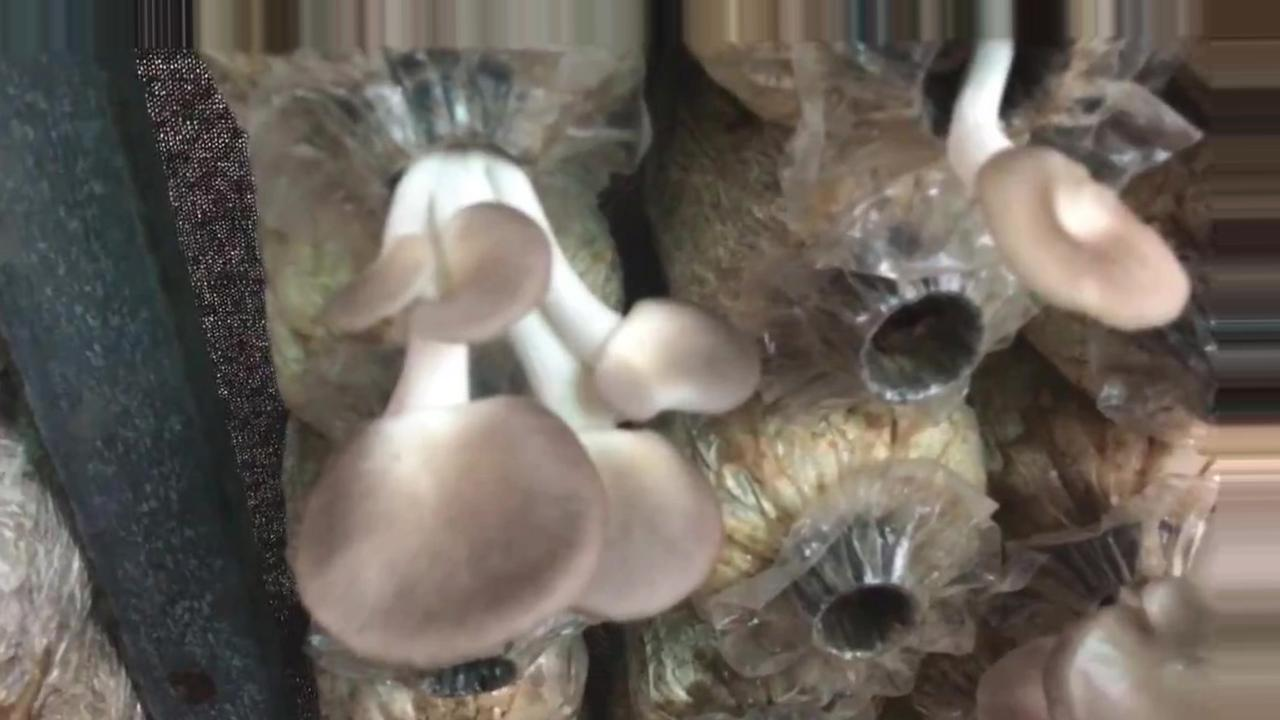nam: (295, 80, 757, 662), (900, 1, 1185, 328)
